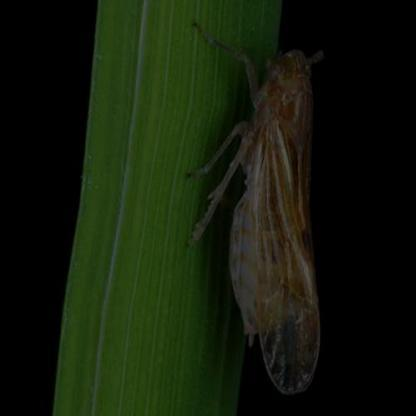brown-planthopper: (226, 36, 322, 394)
